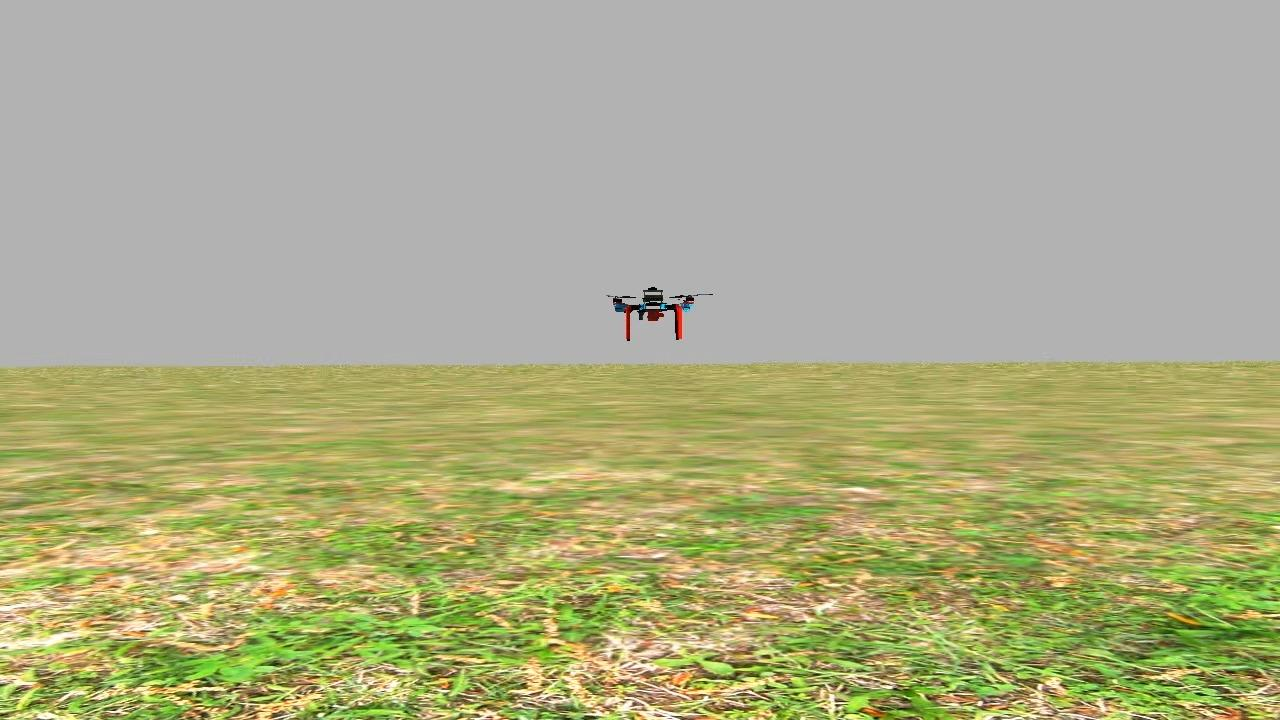UAV: (609, 280, 702, 350)
